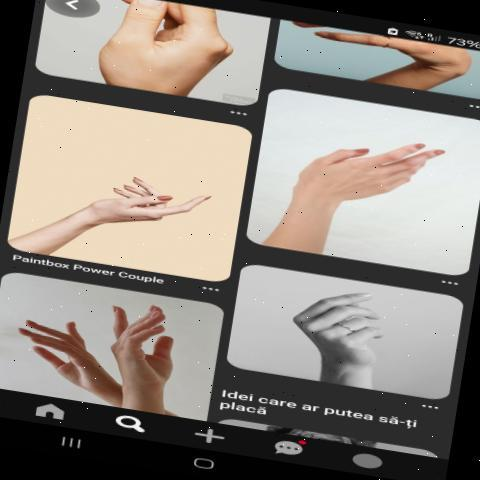Hands: (289, 100, 465, 263), (281, 269, 427, 387), (7, 288, 137, 405), (66, 147, 234, 235), (98, 289, 199, 405)
